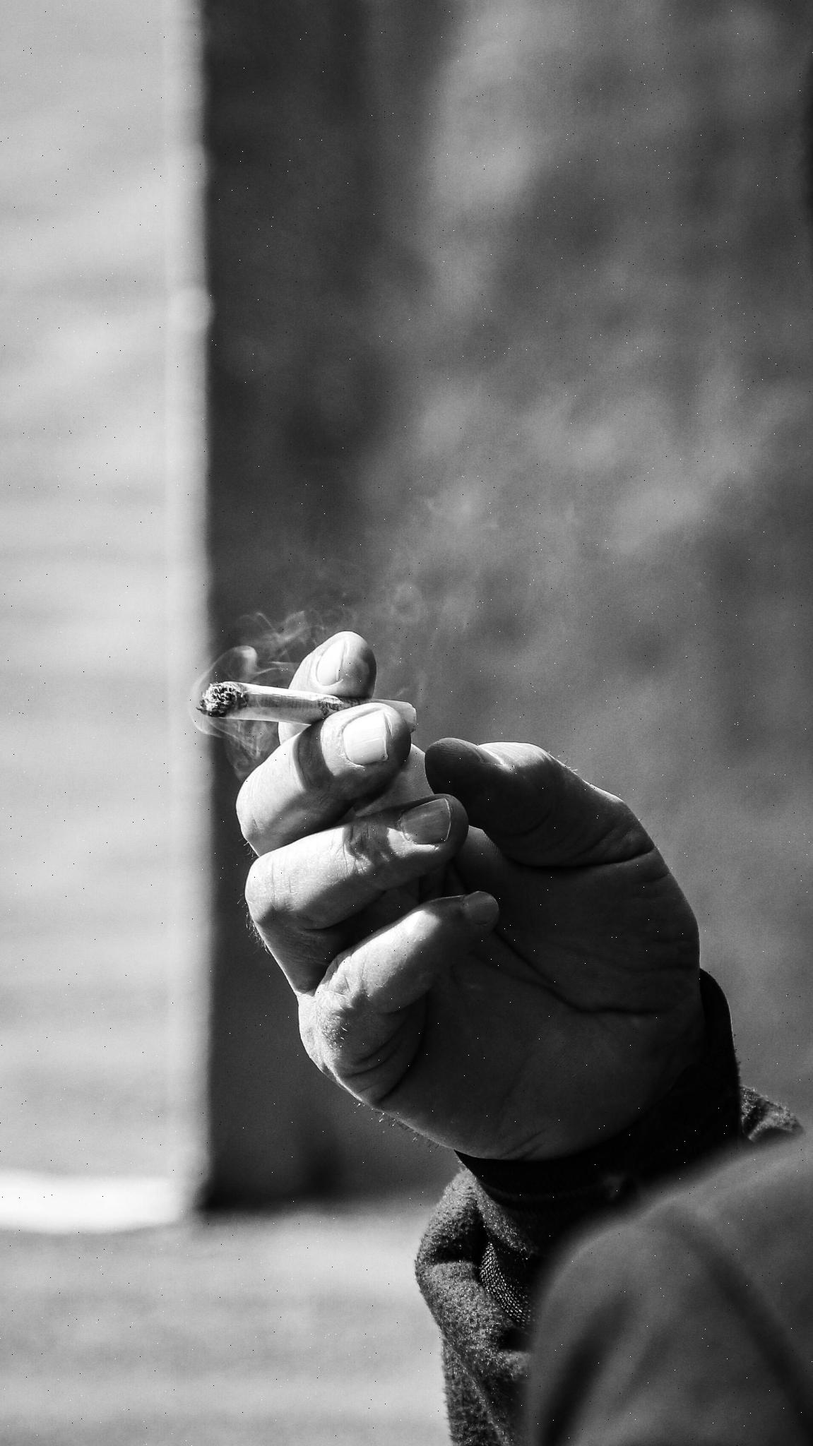cigarette: (198, 681, 416, 731)
